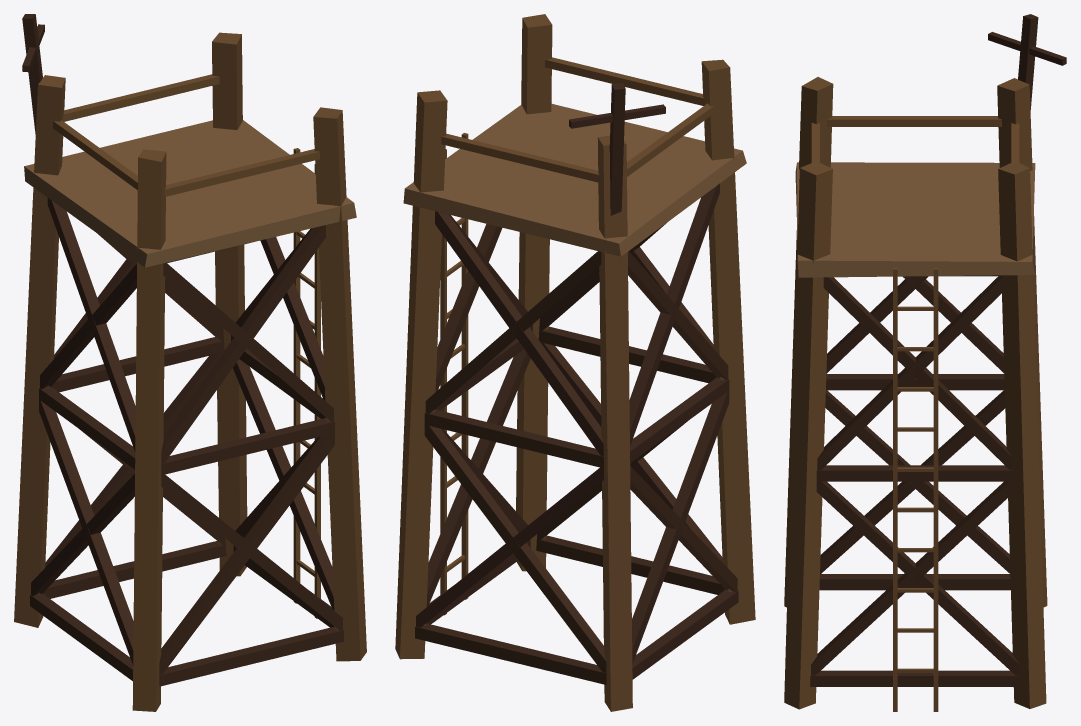
File: watchtower.glb
The picture shows the model from 3 angles, left to right: view 1: azimuth 30°, elevation 25°; view 2: azimuth 150°, elevation 25°; view 3: azimuth 270°, elevation 25°; orthographic projection. The views are drawn at different scales.
Visible parts, largest first — view 1: watchtower; view 2: watchtower; view 3: watchtower.
Part boxes in pixels (x1,y1,x2,y2): watchtower: [14, 14, 366, 711]; watchtower: [395, 14, 755, 711]; watchtower: [784, 14, 1066, 711].
Bounding box in the file's own units: 4.12 × 9.63 × 4.17.
